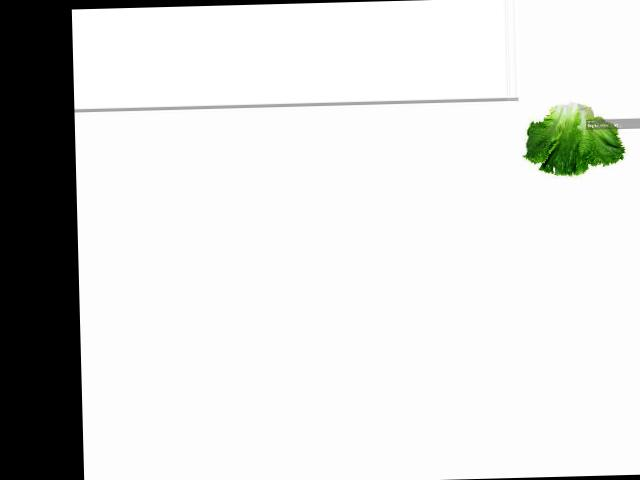lettuce: (523, 100, 621, 175)
